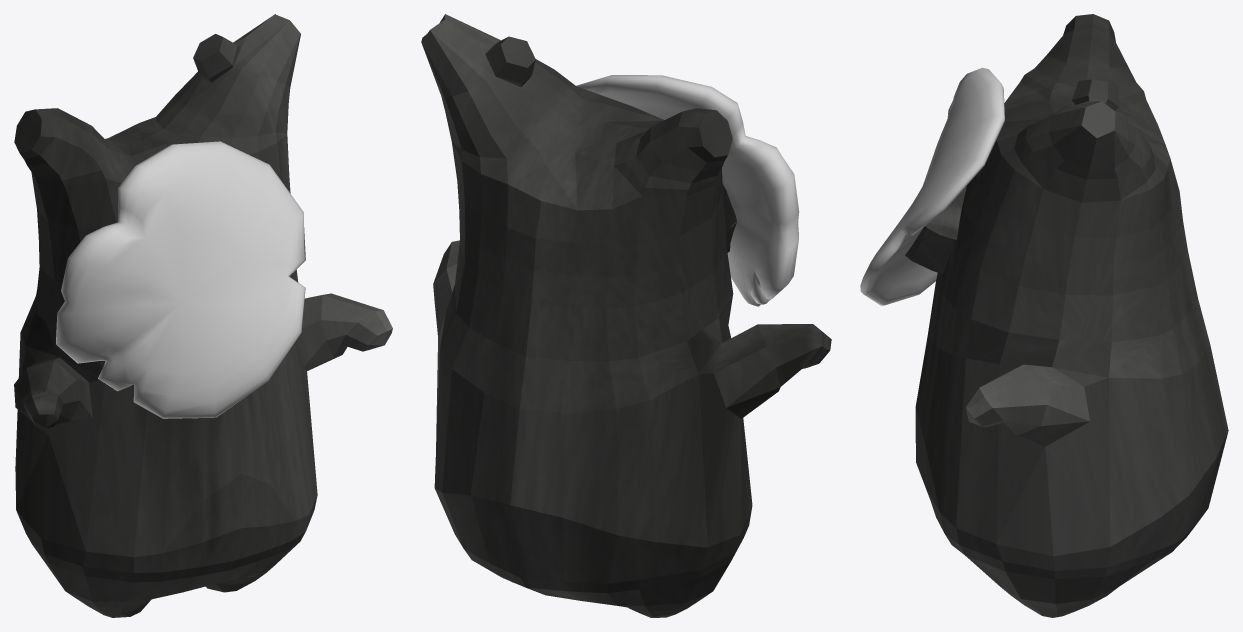
Rendered from frame_0010.obj.
The picture shows the model from 3 angles, left to right: view 1: azimuth 30°, elevation 25°; view 2: azimuth 150°, elevation 25°; view 3: azimuth 270°, elevation 25°; orthographic projection. The views are drawn at different scales.
Visible parts, largest first — view 1: korok, leaf; view 2: korok, leaf; view 3: korok, leaf, nose.
Part boxes in pixels (<box>): korok: <box>14,14,392,617</box>; leaf: <box>56,141,305,418</box>; korok: <box>421,14,831,617</box>; leaf: <box>576,75,799,306</box>; korok: <box>915,14,1228,617</box>; leaf: <box>860,67,1004,305</box>; nose: <box>905,186,966,273</box>.
Bounding box in the file's own units: 1.56 × 2.24 × 1.36.
